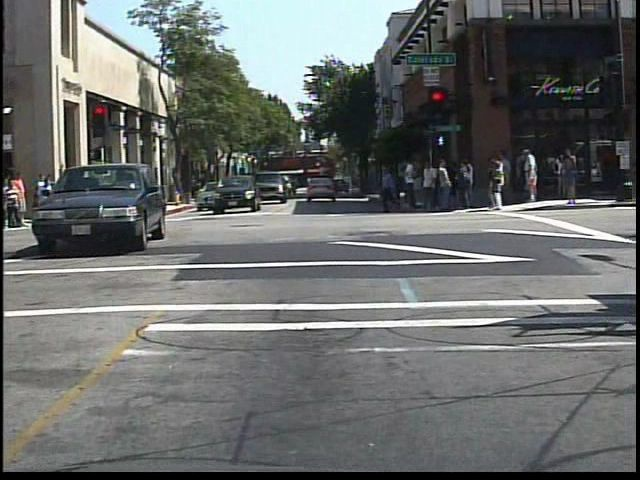person: (519, 147, 545, 206), (5, 178, 27, 232), (42, 174, 55, 210)
